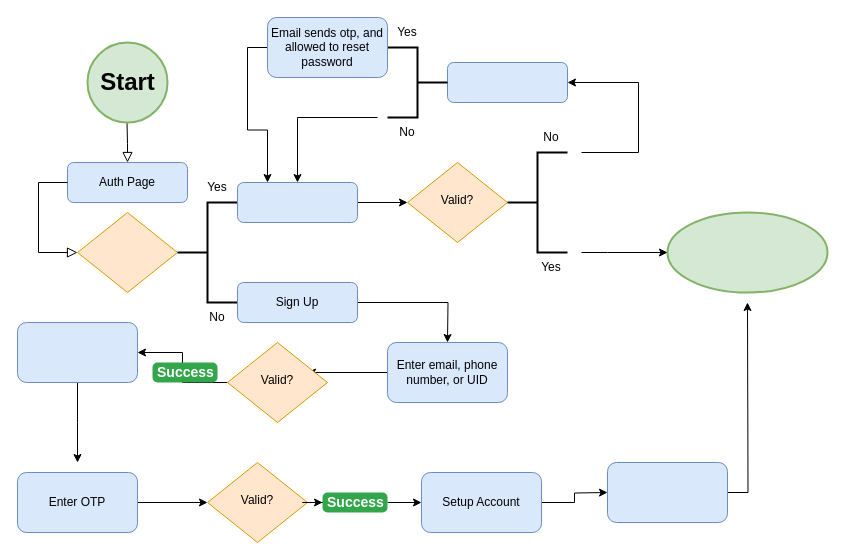
This 846x560 diagram has some shape labels left out. The shapes that lost their labels are listed below. From the top down, each one's centre as x and y in pixels, then its label:
At point (507, 82): "Forgot Password".
At point (297, 202): "Login".
At point (127, 252): "Have an account?".
At point (747, 252): "Logged in!".
At point (77, 352): "Signal sends otp".
At point (667, 492): "Enter password".
